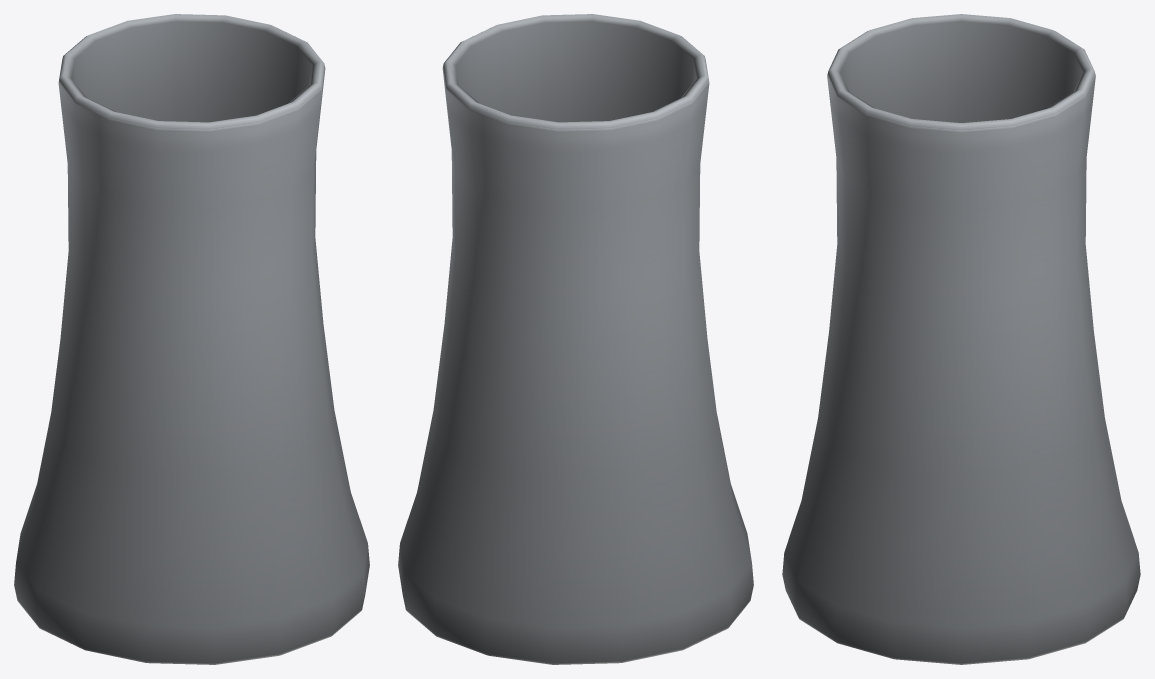
Rendered from industrial_plant_chimney_01.fbx.
3 renders of one model, left to right at view 1: azimuth 30°, elevation 25°; view 2: azimuth 150°, elevation 25°; view 3: azimuth 270°, elevation 25°, orthographic.
Parts seen in each view (by area): view 1: ind:chimneys_01; view 2: ind:chimneys_01; view 3: ind:chimneys_01.
Boxes of the visible parts, bbox=[...] form: ind:chimneys_01: bbox=[14, 14, 369, 664]; ind:chimneys_01: bbox=[398, 14, 753, 664]; ind:chimneys_01: bbox=[782, 14, 1140, 664].
Size of the model in its own units: 17.33 by 27.87 by 17.33.
